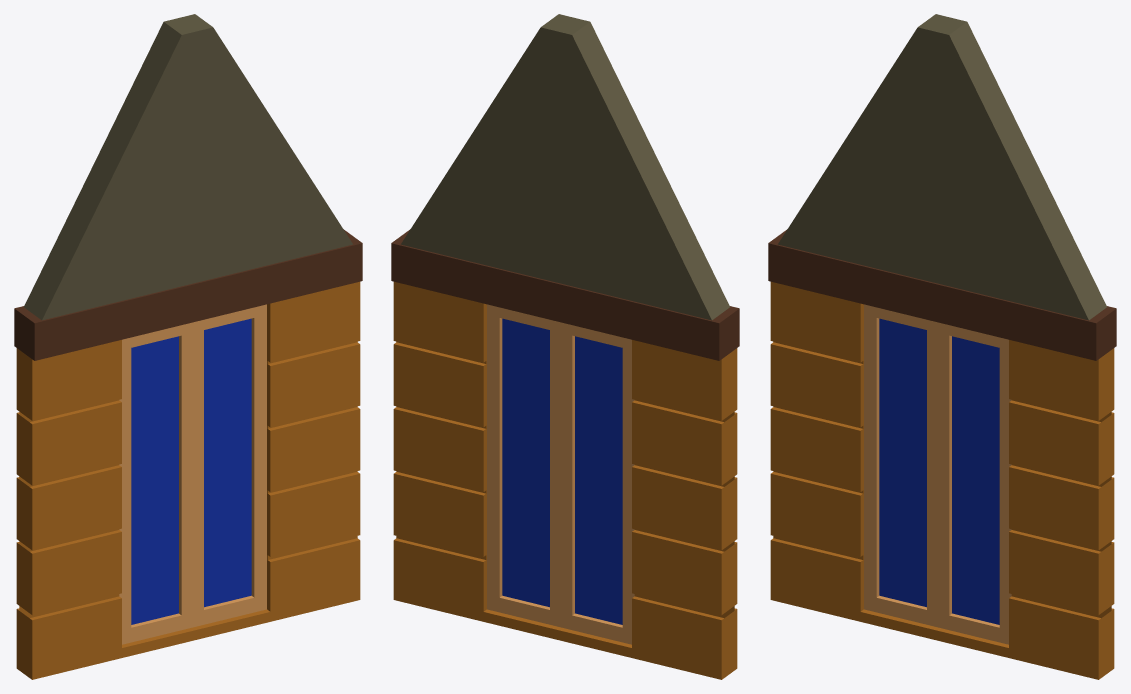
The model's file is Window02_house5.obj.
3 renders of one model, left to right at view 1: azimuth 30°, elevation 25°; view 2: azimuth 150°, elevation 25°; view 3: azimuth 330°, elevation 25°, orthographic.
Visible parts, largest first — view 1: Window02_house05_Cube.025; view 2: Window02_house05_Cube.025; view 3: Window02_house05_Cube.025.
Part boxes in pixels (x1,y1,x2,y2): Window02_house05_Cube.025: (14, 14, 362, 679); Window02_house05_Cube.025: (391, 14, 739, 679); Window02_house05_Cube.025: (768, 14, 1116, 679).
Size of the model in its own units: 2.87 by 5.09 by 0.3088.
